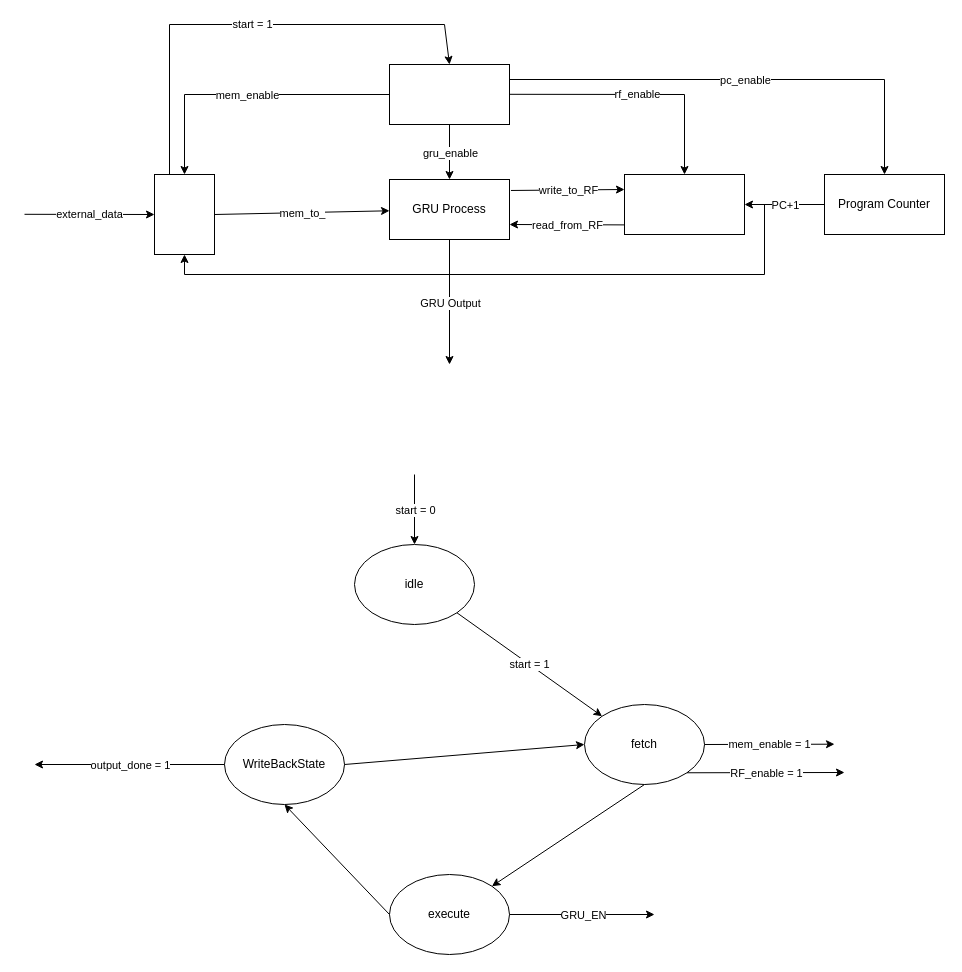
This 962x972 diagram has some shape labels left out. Here are the shapes that lost their labels. From the top down, the centre of each, then its label:
the point at 449,94: control Unit
the point at 184,214: Memory
the point at 684,204: Register File
